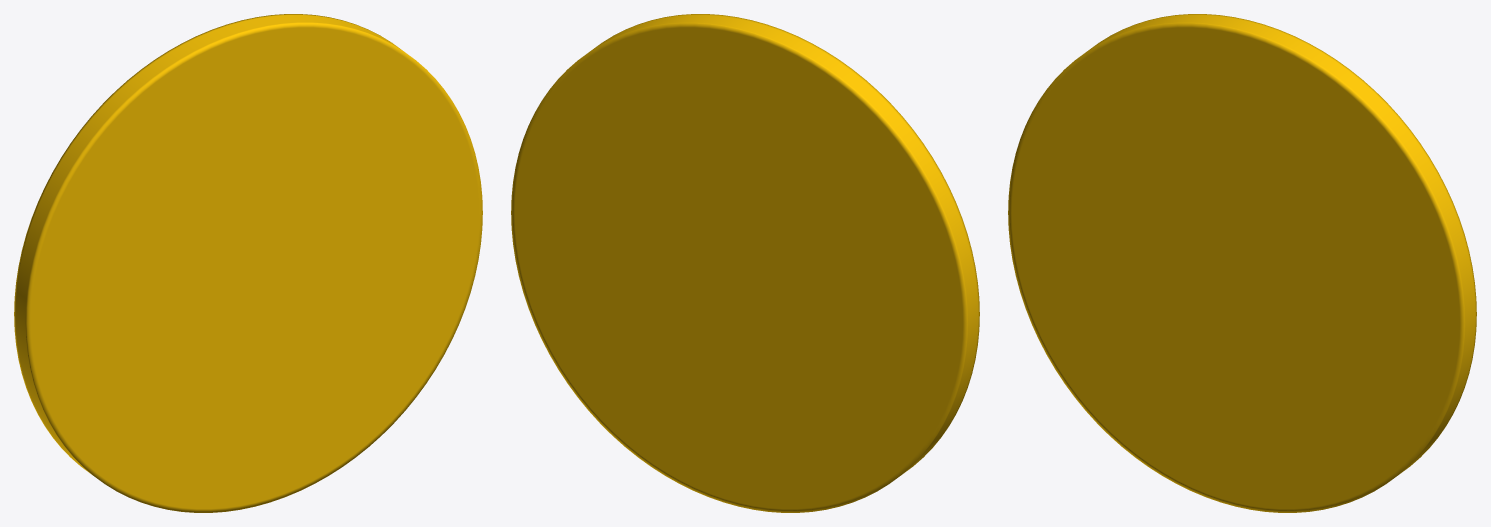
Rendered from gold-2.glb.
The picture shows the model from 3 angles, left to right: view 1: azimuth 30°, elevation 25°; view 2: azimuth 150°, elevation 25°; view 3: azimuth 330°, elevation 25°; orthographic projection.
Visible parts, largest first — view 1: gold-coin; view 2: gold-coin; view 3: gold-coin.
Boxes of the visible parts, <box> form: gold-coin: <box>14,14,482,512</box>; gold-coin: <box>511,14,979,512</box>; gold-coin: <box>1008,14,1476,512</box>.
Bounding box in the file's own units: 2 × 2 × 0.1.
